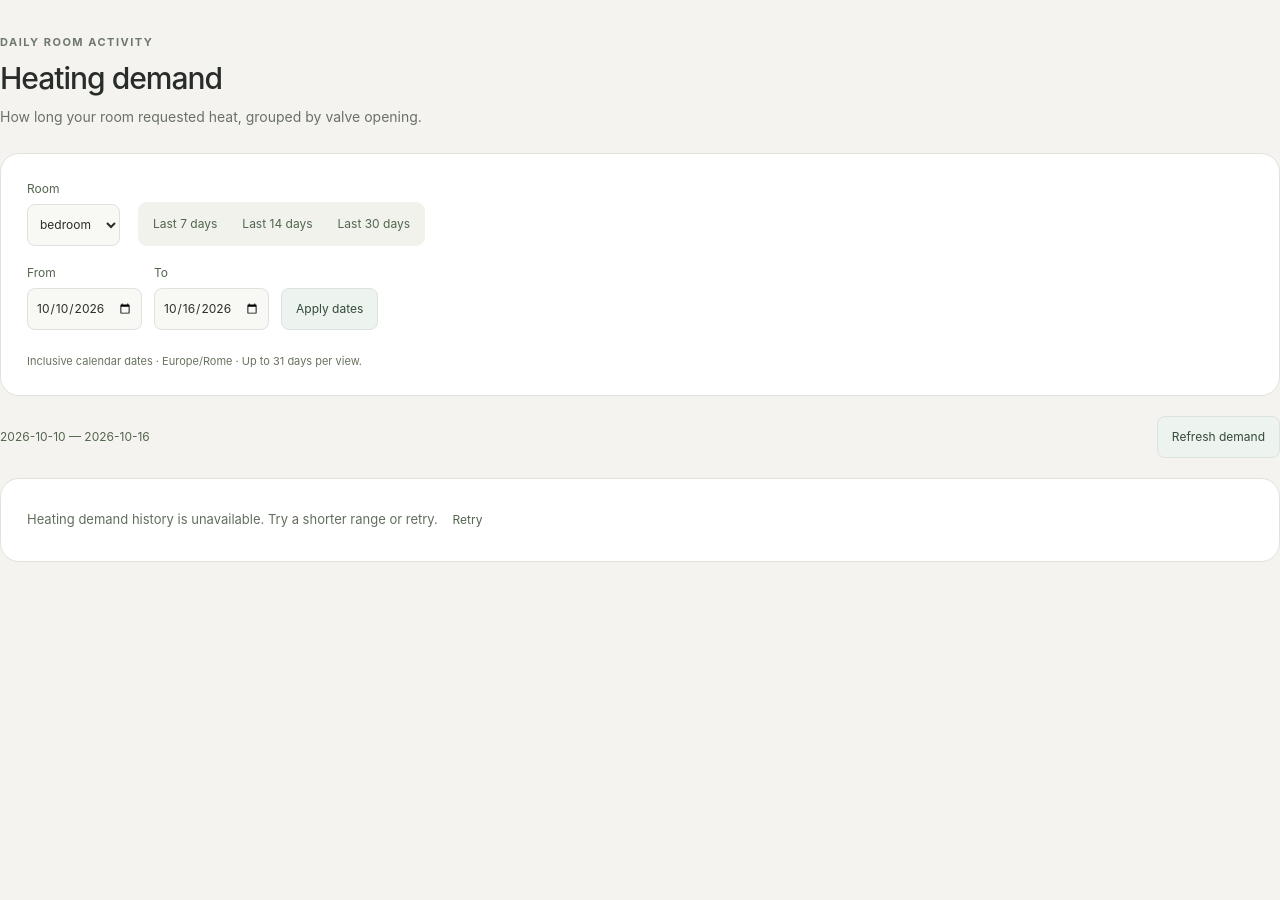
retries errors and distinguishes zero demand with coverage from missing data
Check: the message "Heating demand history is unavailable. Try a shorter range or retry. Retry" is shown, box 0,478 -> 1279,562
Click the button "Retry".
click(467, 520)  # box 442,505 -> 493,535
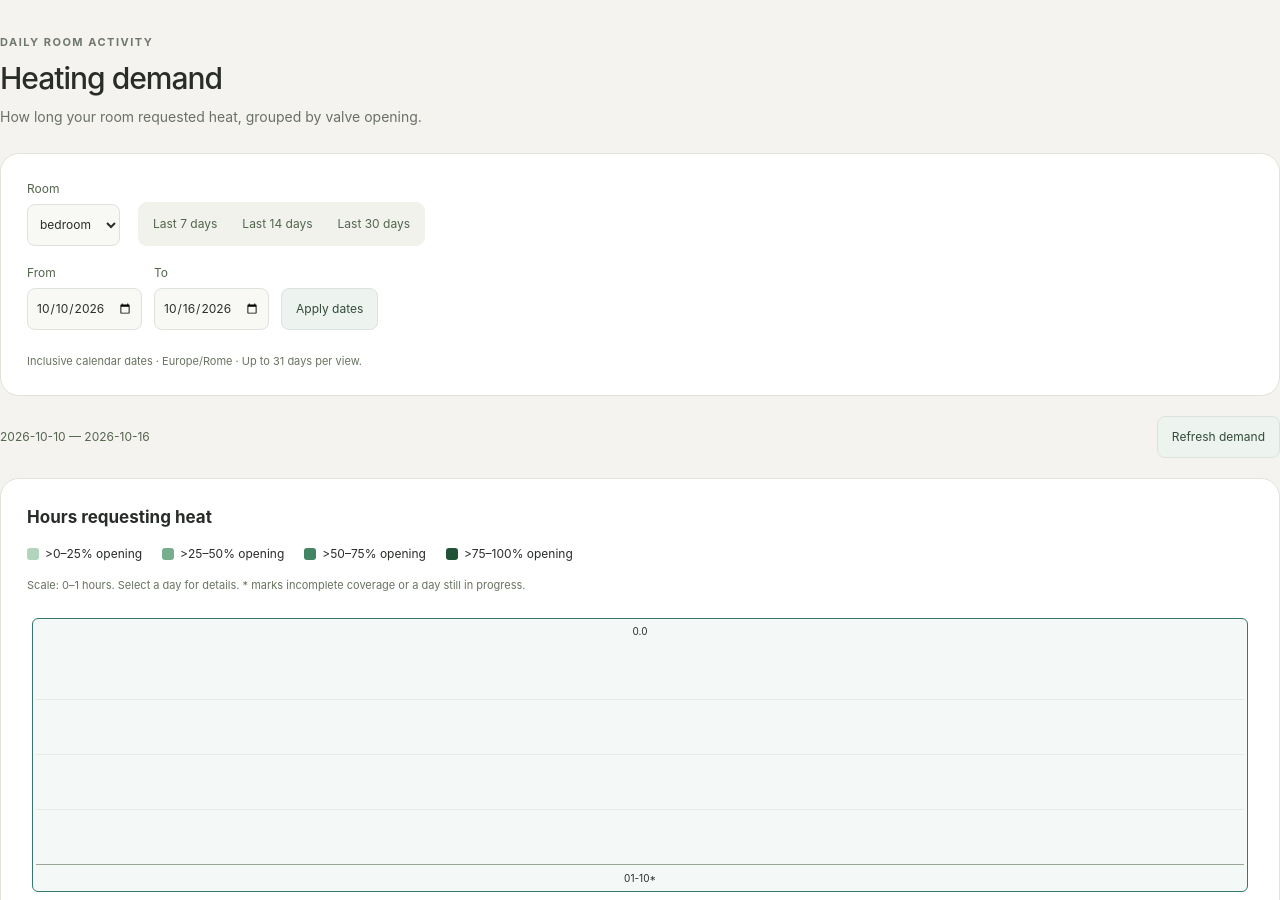
Check: the button named "2026-01-10: 0.00 h" is shown, box 32,618 -> 1248,892
